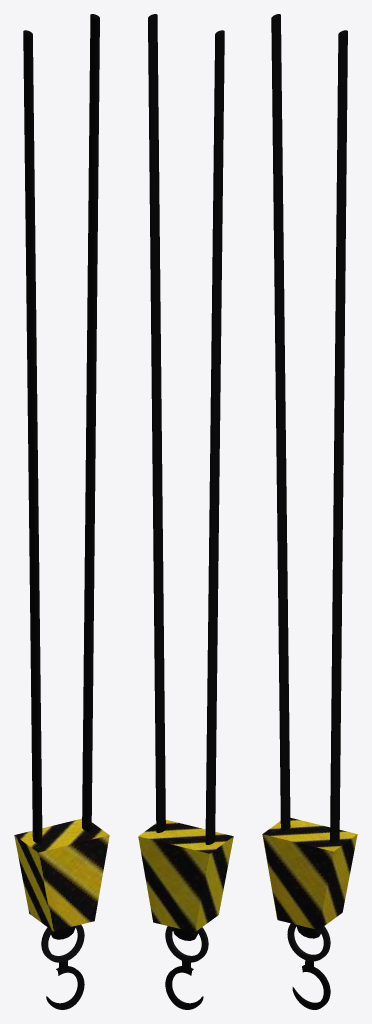
File: cw-crane-hook.glb
The picture shows the model from 3 angles, left to right: view 1: azimuth 30°, elevation 25°; view 2: azimuth 150°, elevation 25°; view 3: azimuth 330°, elevation 25°; orthographic projection.
Visible parts, largest first — view 1: Cube; view 2: Cube; view 3: Cube.
Part boxes in pixels (left/top/right/bottom): Cube: left=14, top=14, right=109, bottom=1009; Cube: left=138, top=14, right=233, bottom=1009; Cube: left=262, top=14, right=357, bottom=1009.
Bounding box in the file's own units: 3.54 × 45.34 × 2.
Materials: 3 (1 with a texture image).
